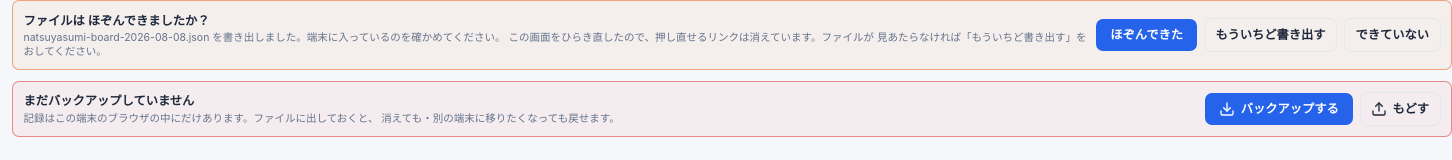
Scenario: バックアップのカード › 開き直したあとの「ほぞんできた」は、保存に残っている控えを渡す
What coordinates should you click on to do the following:
click the button "ほぞんできた"
I would click on:
 (1147, 35)
Its box is [1096,19,1197,51].
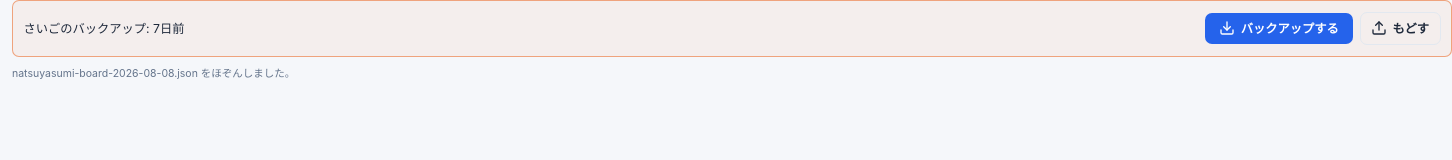
Expected: the text "natsuyasumi-board-2026-08-08.json をほぞんしました。" is shown, [12,67,295,80]
